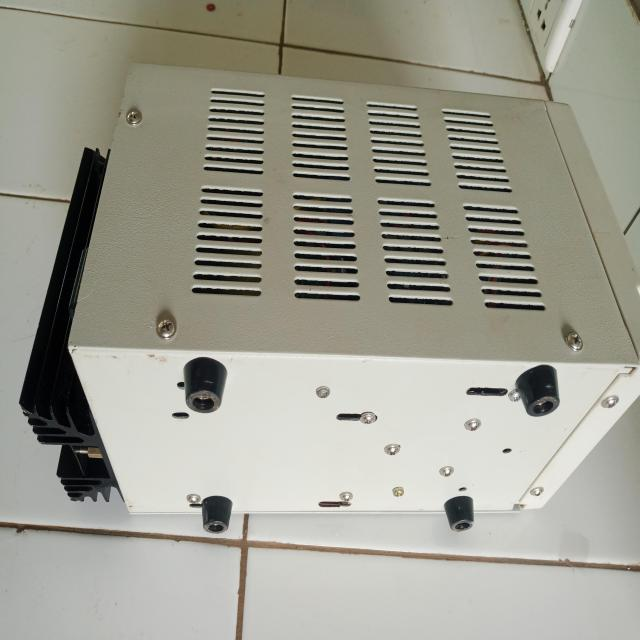Digital Power Supply: (16, 57, 639, 540)
